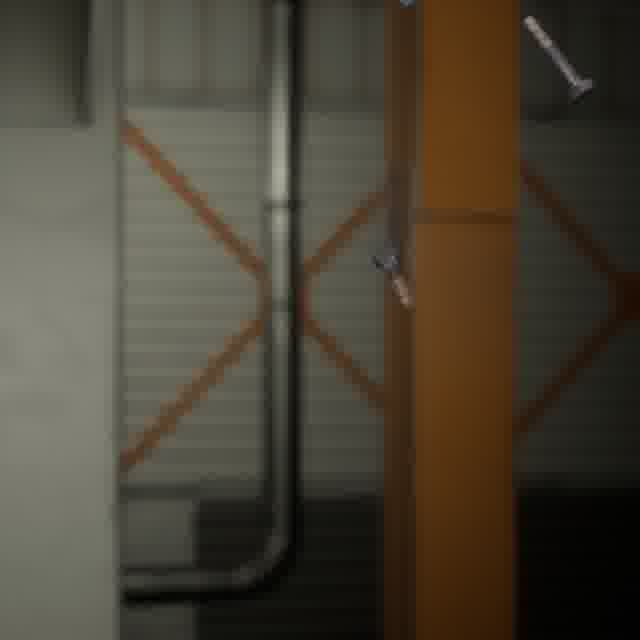bolt: (518, 12, 600, 108), (368, 241, 416, 310)
